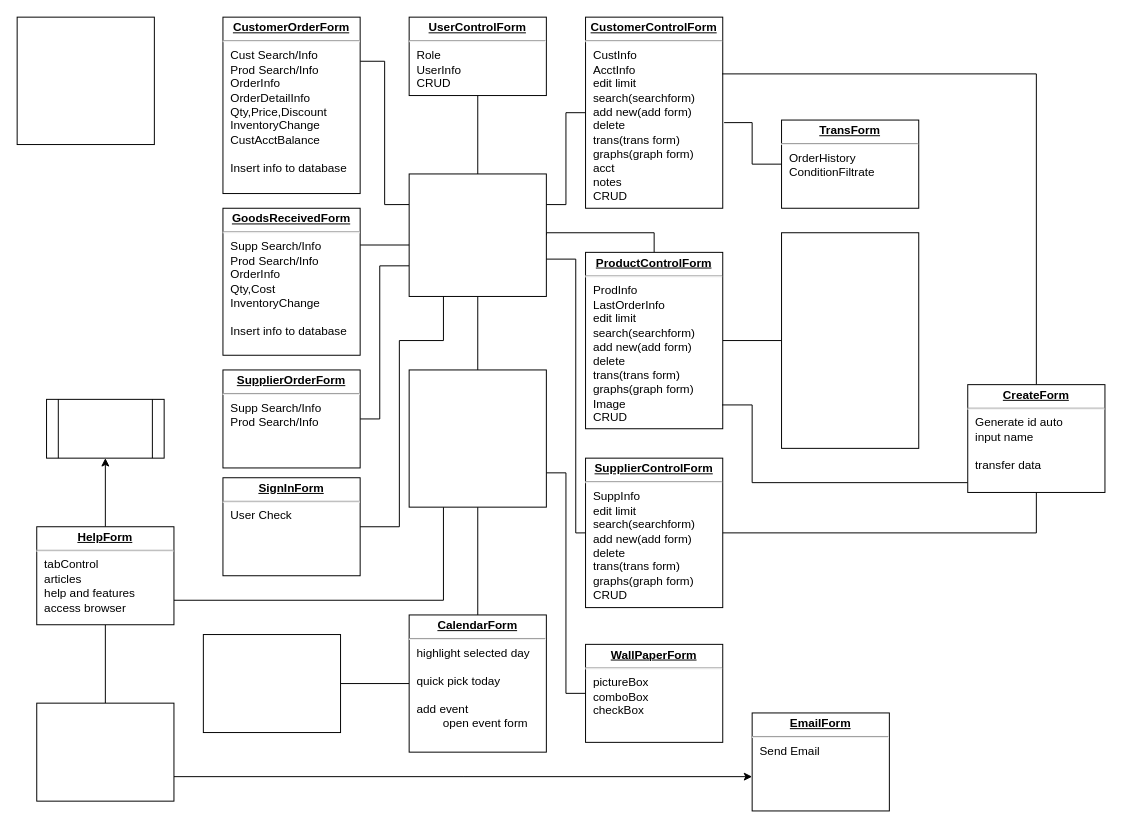
Some shapes in this 1122 by 828 pixel diagram are drawn without their labels. Each missing label, with the centre of its shape:
Browser: (x=105, y=428)
Contact Us User Control Phone email: (x=105, y=751)
EventsForm Display time events list events add write to database: (x=271, y=683)
GraphForm inentoryChangeTrend: (x=850, y=340)
MainForm formBtn userAutn permissionAssig TaskMenuForm: (x=477, y=234)
SearchForm switch: custsearch prodsearch suppsearch usersearch: (x=85, y=80)
Tools calendar open calendar form calculator //Currency Exchange: (x=477, y=438)
